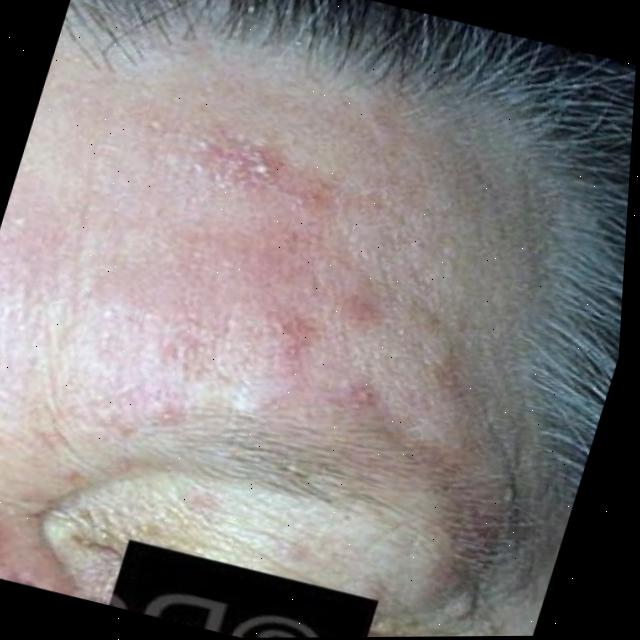Rosacea: (93, 116, 445, 397)
